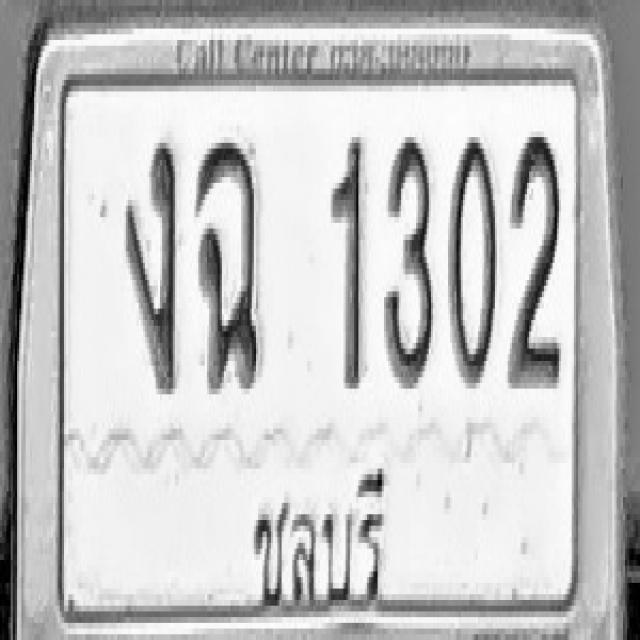0: (447, 132, 496, 388)
1: (329, 132, 364, 388)
16NgorNgu: (124, 137, 177, 394)
18ChorChing: (196, 134, 262, 392)
2: (507, 132, 560, 388)
3: (384, 132, 433, 388)
Chonburi: (241, 442, 397, 626)
